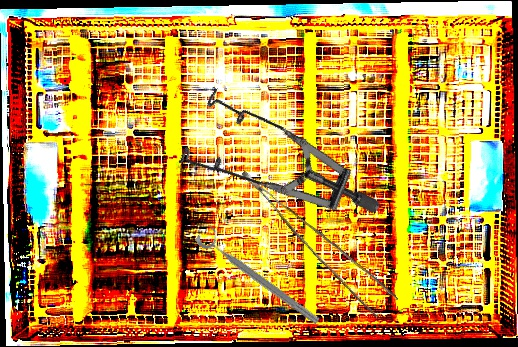Fixation Ring: (193, 222, 328, 328)
Speculum: (155, 47, 384, 289)
Tissue Forceps: (241, 148, 399, 325)
